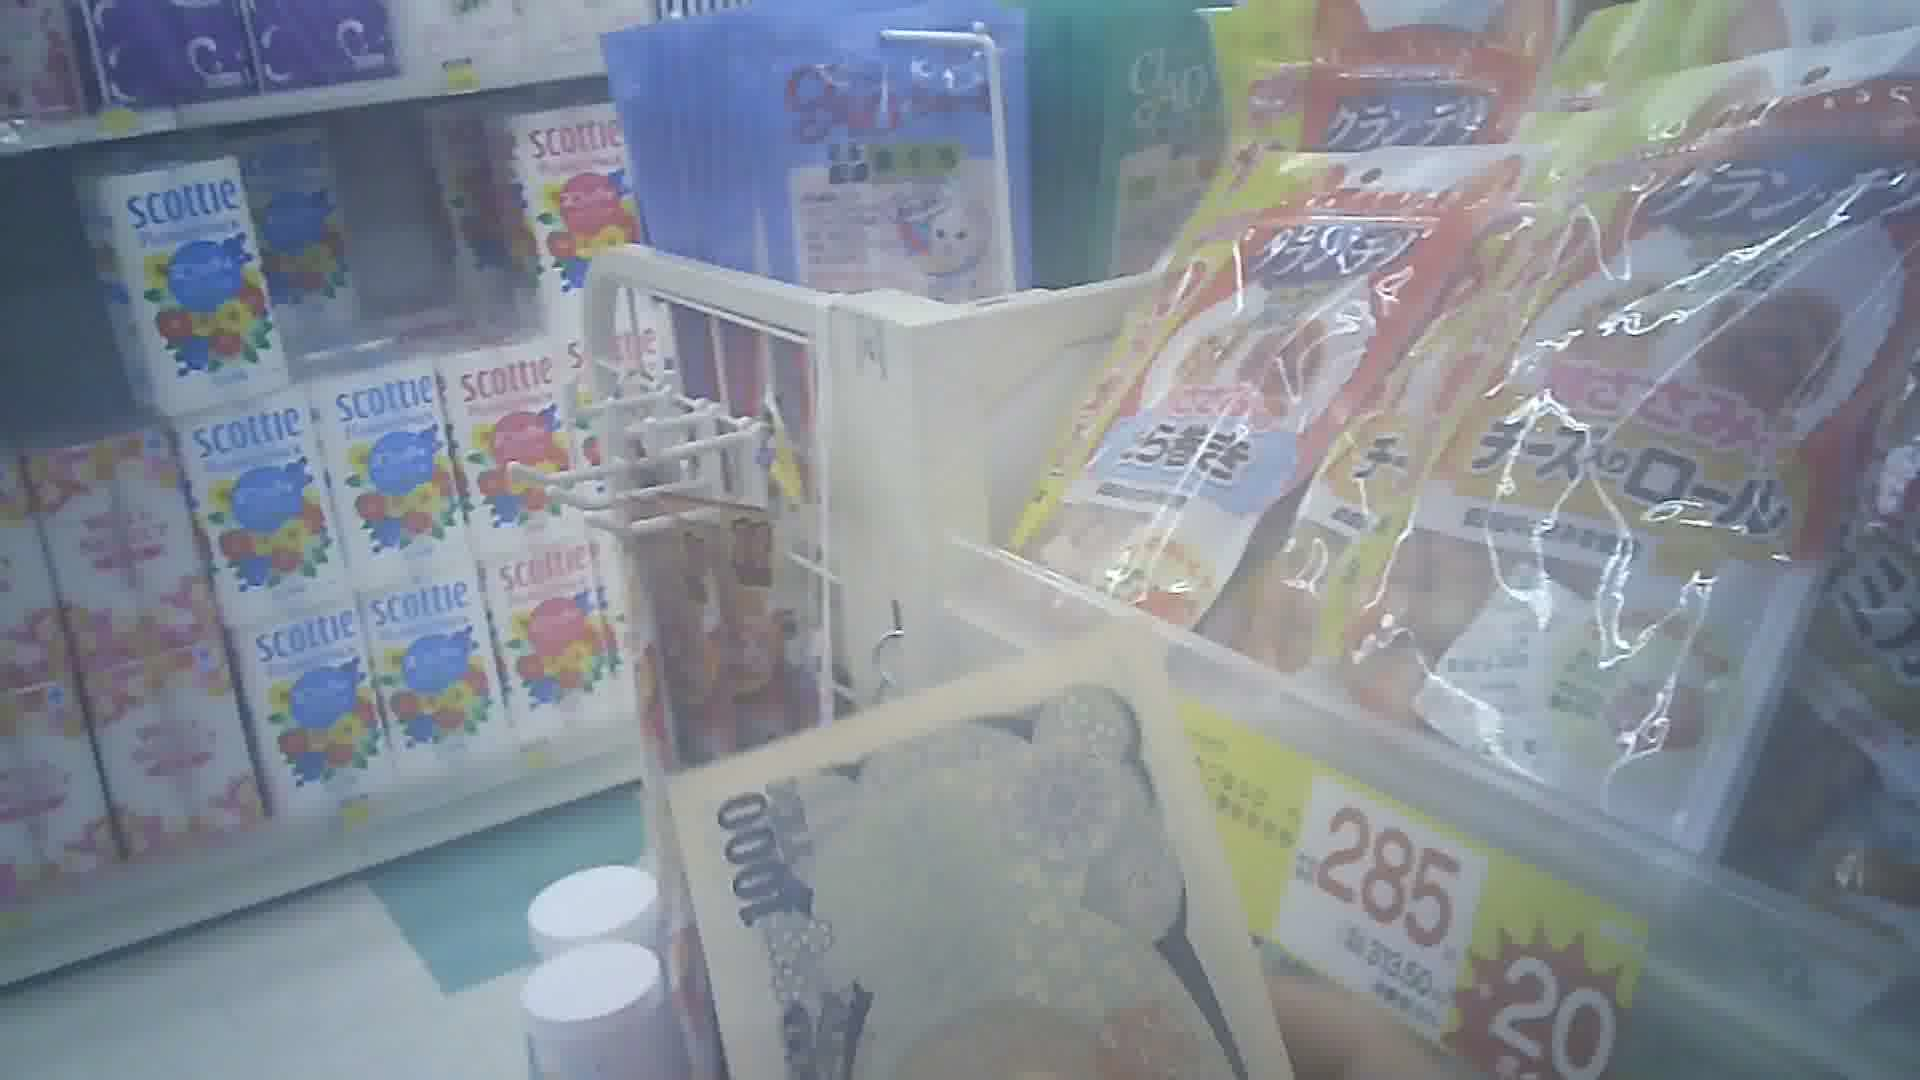1,000 Yen: (675, 665, 1278, 1079)
